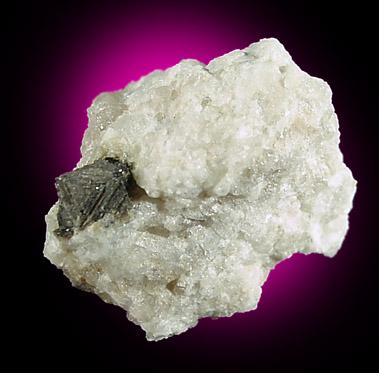magnetite: (54, 159, 131, 238)
